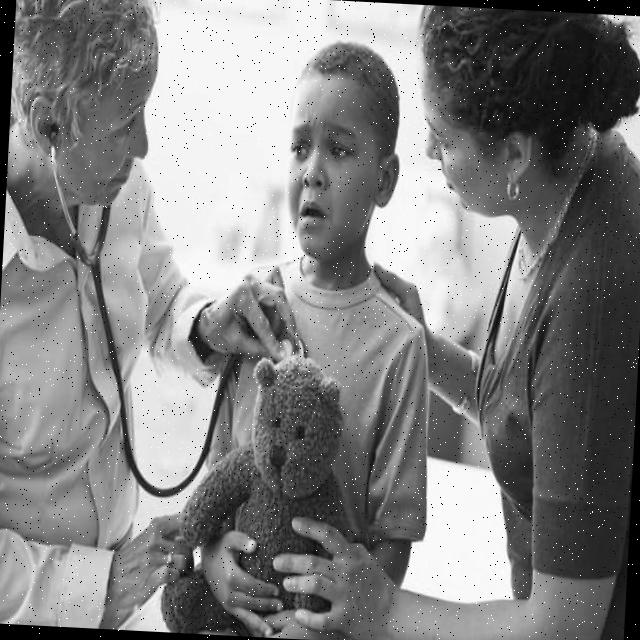Fear: (284, 74, 380, 260)
